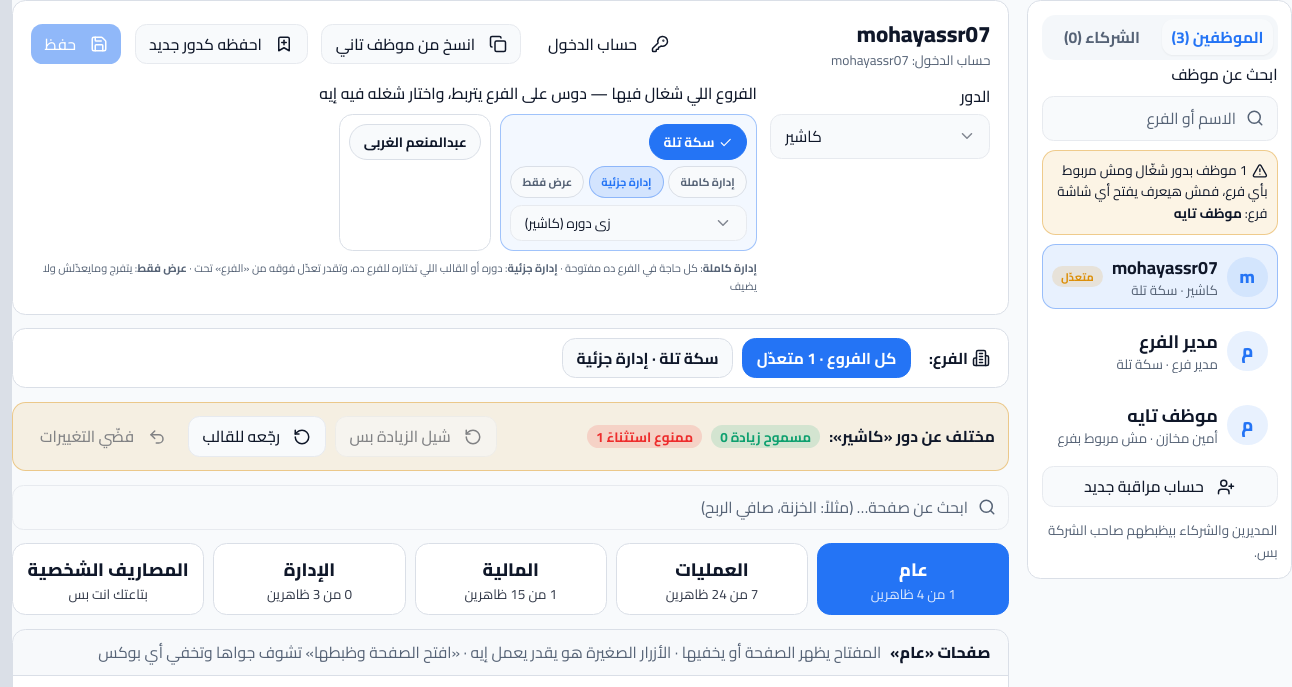
it: Employees permissions screen › «رجّعه للقالب» clears the differences, «فضّي التغييرات» brings back what is saved
Click the button "رجّعه للقالب": (257, 437) [188,416,326,457]
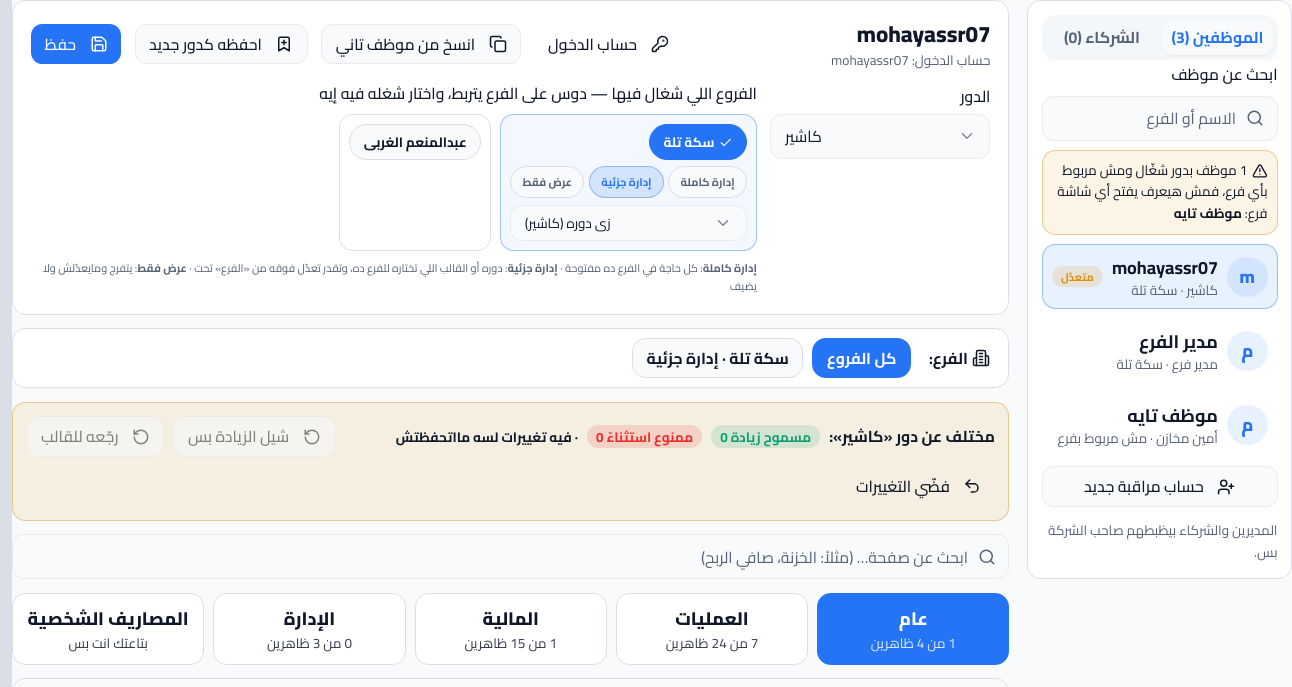
Result: the button "ممنوع استثناءً 0" is shown at [587,425,702,448]
Click the button "فضّي التغييرات": (919, 486) [842,466,995,506]
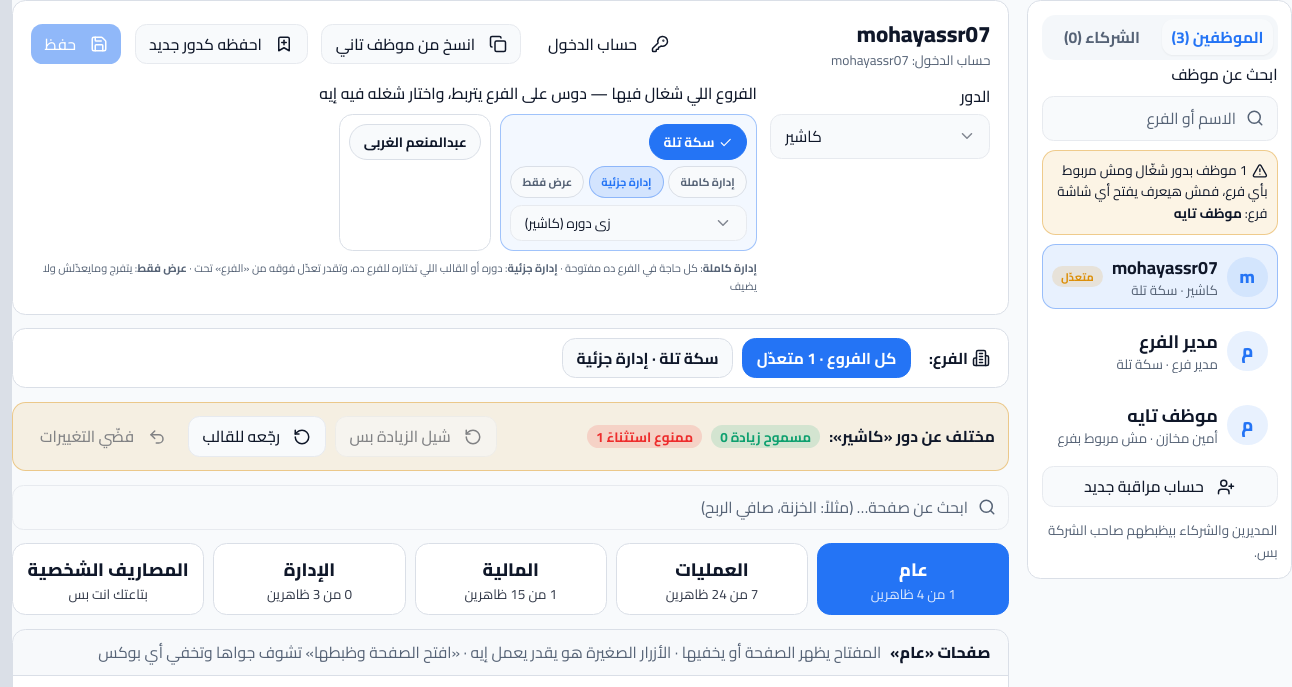
Result: the button "ممنوع استثناءً 1" is shown at [587,425,702,448]
